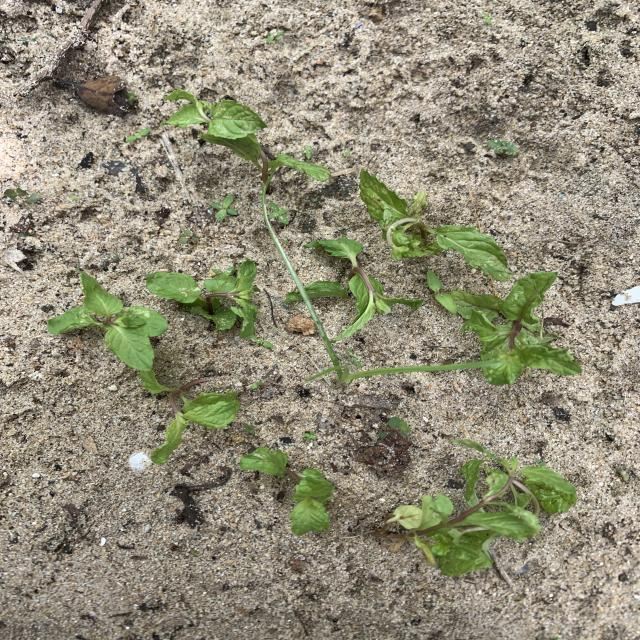crop: (387, 440, 575, 574), (360, 168, 509, 279), (164, 91, 329, 183), (455, 272, 581, 383), (303, 238, 423, 339), (47, 271, 167, 371), (141, 368, 239, 462), (146, 260, 257, 338), (240, 446, 333, 534)
weed: (262, 183, 489, 383), (427, 271, 455, 311), (211, 195, 236, 219), (267, 202, 291, 225), (6, 188, 39, 203), (387, 416, 409, 438), (488, 140, 518, 155), (125, 128, 150, 141), (179, 230, 200, 243), (299, 146, 314, 160), (266, 30, 283, 42), (244, 424, 255, 434), (617, 468, 627, 479), (303, 432, 315, 441), (482, 12, 491, 23), (250, 381, 262, 389)
